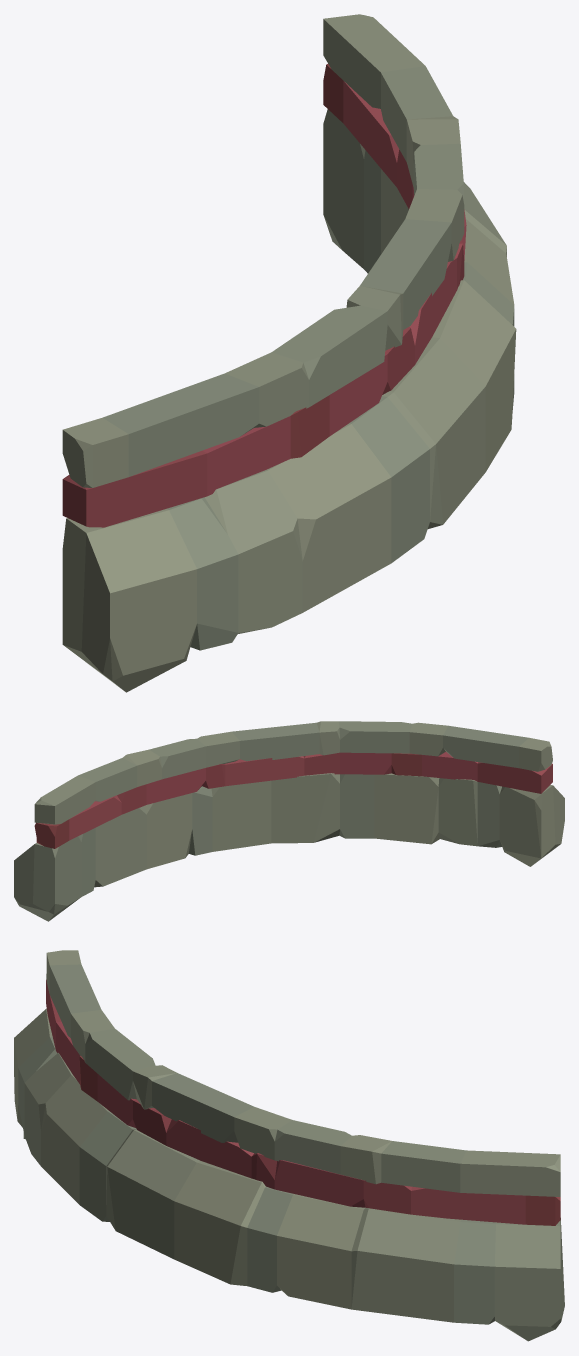
Rendered from railing_round_corner_4x4_conc.fbx.
The picture shows the model from 3 angles, top to bottom: view 1: azimuth 30°, elevation 25°; view 2: azimuth 150°, elevation 25°; view 3: azimuth 270°, elevation 25°; orthographic projection. The views are drawn at different scales.
Visible parts, largest first — view 1: railing_round_corner_4x4_conc; view 2: railing_round_corner_4x4_conc; view 3: railing_round_corner_4x4_conc.
Boxes of the visible parts, <box> form: railing_round_corner_4x4_conc: <box>62,14,516,692</box>; railing_round_corner_4x4_conc: <box>14,721,564,921</box>; railing_round_corner_4x4_conc: <box>14,950,564,1341</box>.
Bounding box in the file's own units: 428 × 151 × 428.
